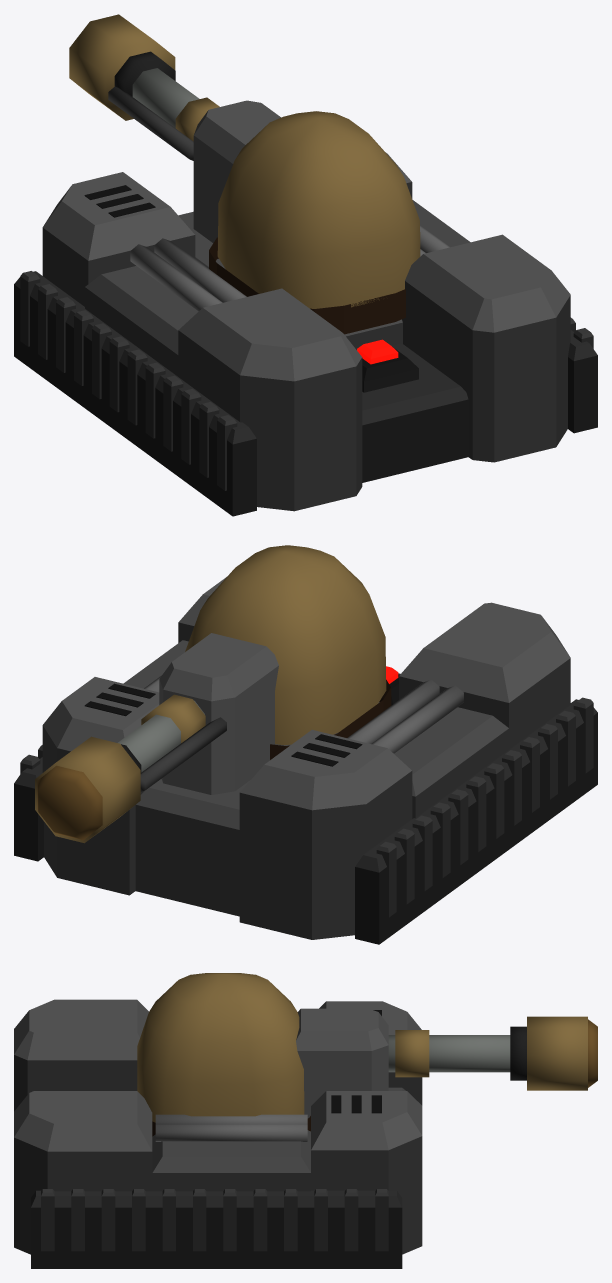
File: newshp-13-f2.glb
3 renders of one model, top to bottom at view 1: azimuth 30°, elevation 25°; view 2: azimuth 150°, elevation 25°; view 3: azimuth 270°, elevation 25°, orthographic. The views are drawn at different scales.
Visible parts, largest first — view 1: newshp-13-f2; view 2: newshp-13-f2; view 3: newshp-13-f2.
Boxes of the visible parts, x1=… form: newshp-13-f2: x1=14, y1=14, x2=597, y2=516; newshp-13-f2: x1=14, y1=545, x2=597, y2=944; newshp-13-f2: x1=14, y1=973, x2=597, y2=1268.
Bounding box in the file's own units: 0.8917 × 0.6167 × 1.44.
